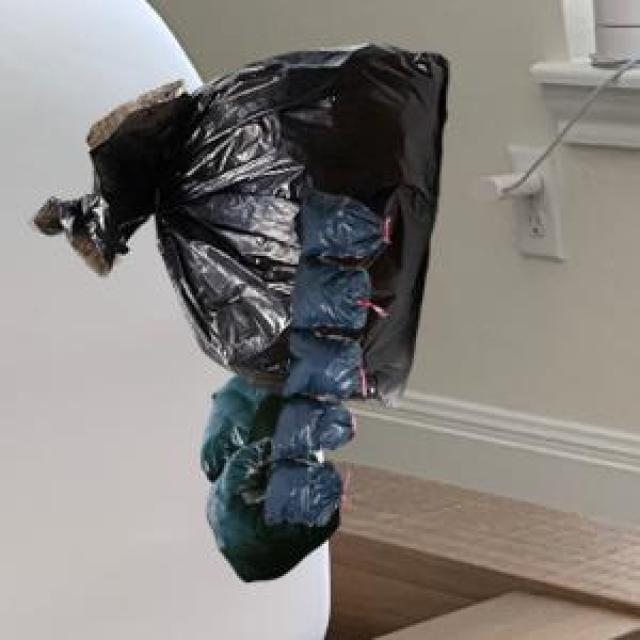waste: (35, 45, 448, 581)
